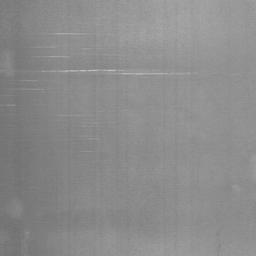Waist folding: (0, 67, 197, 78), (36, 54, 117, 59), (49, 31, 110, 37), (0, 87, 43, 91), (59, 113, 83, 118), (0, 103, 16, 108)
